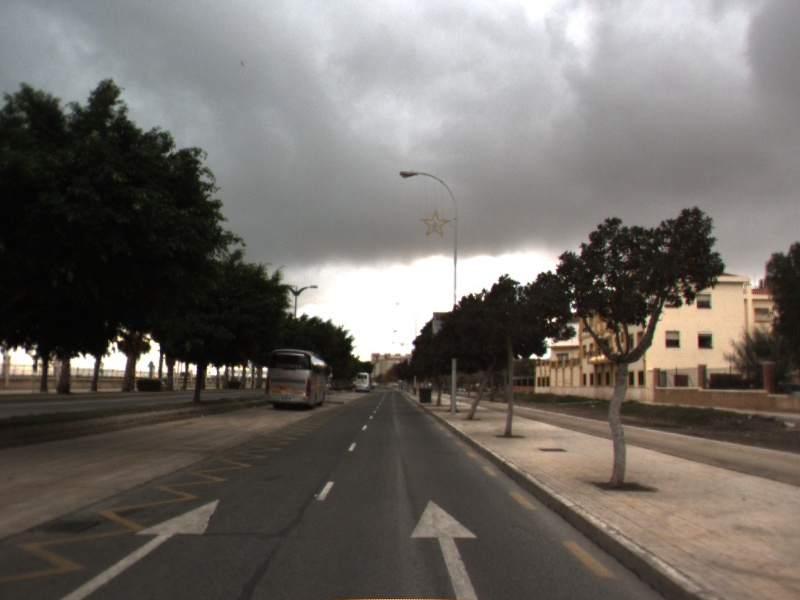STRAIGHT: (46, 493, 224, 600), (407, 495, 483, 599)
